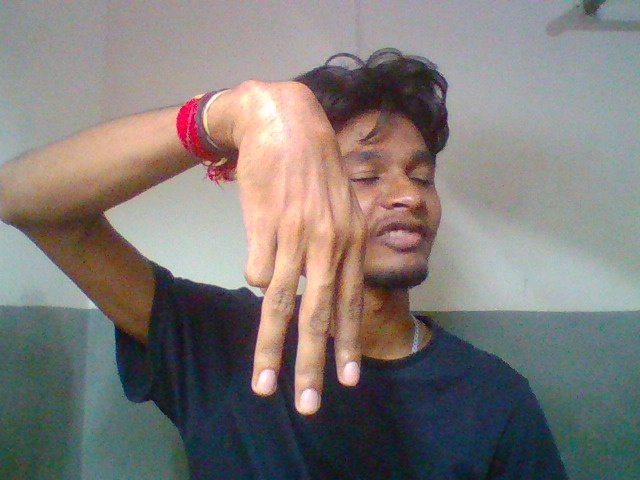M: (218, 82, 375, 426)
